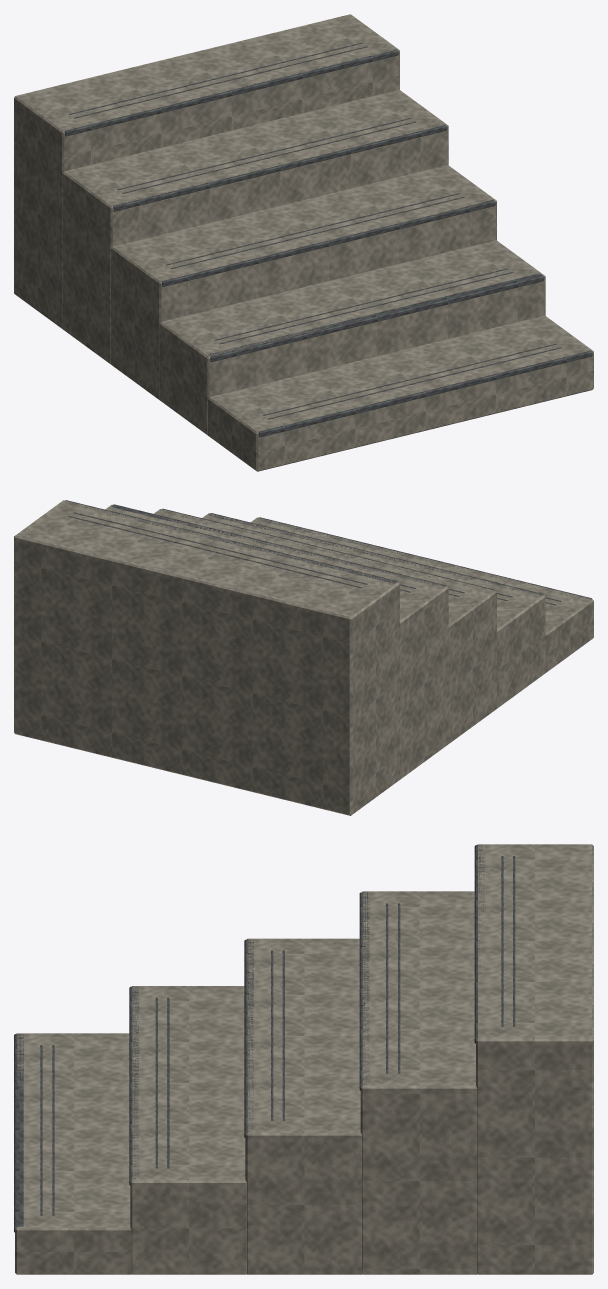
Rendered from stairs.glb.
The picture shows the model from 3 angles, top to bottom: view 1: azimuth 30°, elevation 25°; view 2: azimuth 150°, elevation 25°; view 3: azimuth 270°, elevation 25°; orthographic projection. The views are drawn at different scales.
Visible parts, largest first — view 1: stairs; view 2: stairs; view 3: stairs.
Boxes of the visible parts, x1,y1,x2,y2 form: stairs: (14, 14, 593, 471); stairs: (14, 500, 593, 815); stairs: (14, 844, 593, 1274).
Size of the model in its own units: 1.6 by 0.9 by 2.
2 materials, 2 textured.
